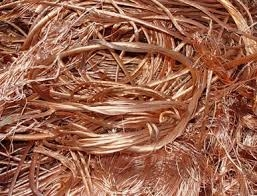metal: (24, 82, 195, 132), (49, 1, 199, 50), (11, 121, 196, 160), (47, 35, 197, 81)
